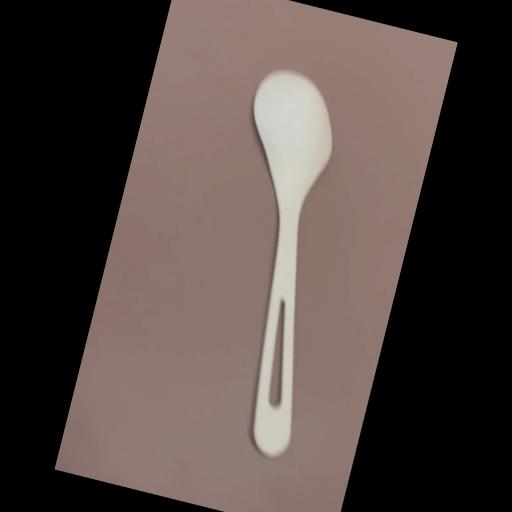utensil: (172, 61, 379, 461)
